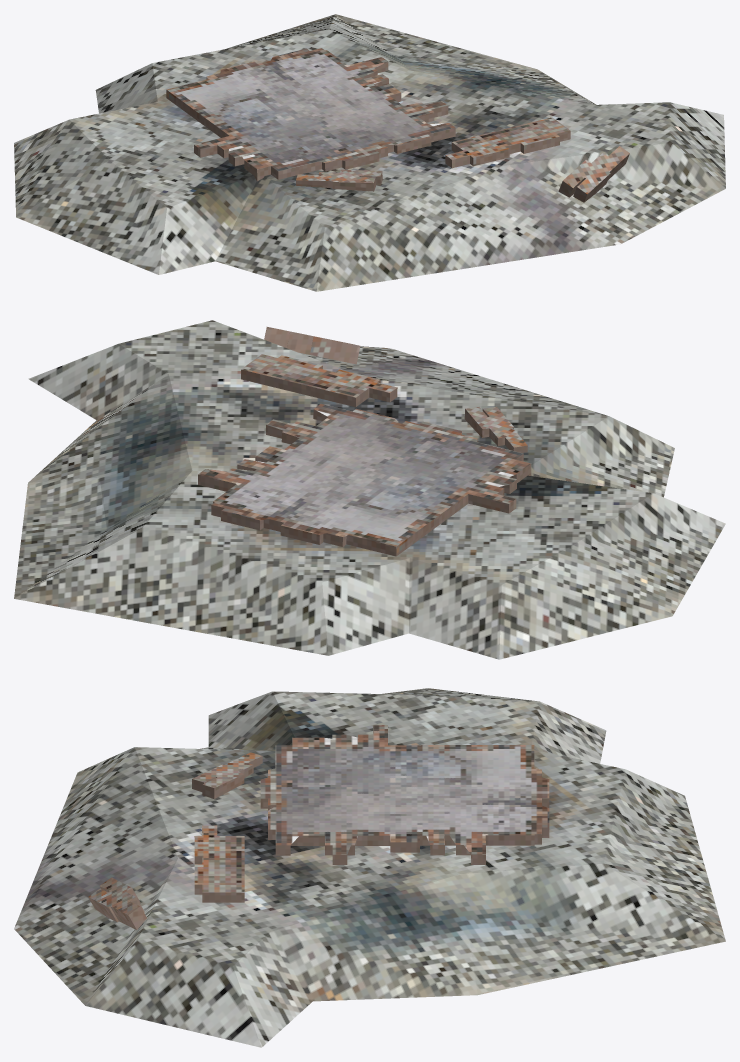
Rendered from EscombrosB.fbx.
3 views of the same model, one above another, from view 1: azimuth 30°, elevation 25°; view 2: azimuth 150°, elevation 25°; view 3: azimuth 270°, elevation 25° (orthographic). The views are drawn at different scales.
Visible parts, largest first — view 1: Ruin1; view 2: Ruin1; view 3: Ruin1.
Boxes of the visible parts, x1,y1,x2,y2 form: Ruin1: (14, 14, 725, 291); Ruin1: (14, 320, 725, 659); Ruin1: (14, 688, 725, 1047).
Size of the model in its own units: 1855 by 132 by 1552.
Materials: 1 (1 with a texture image).
